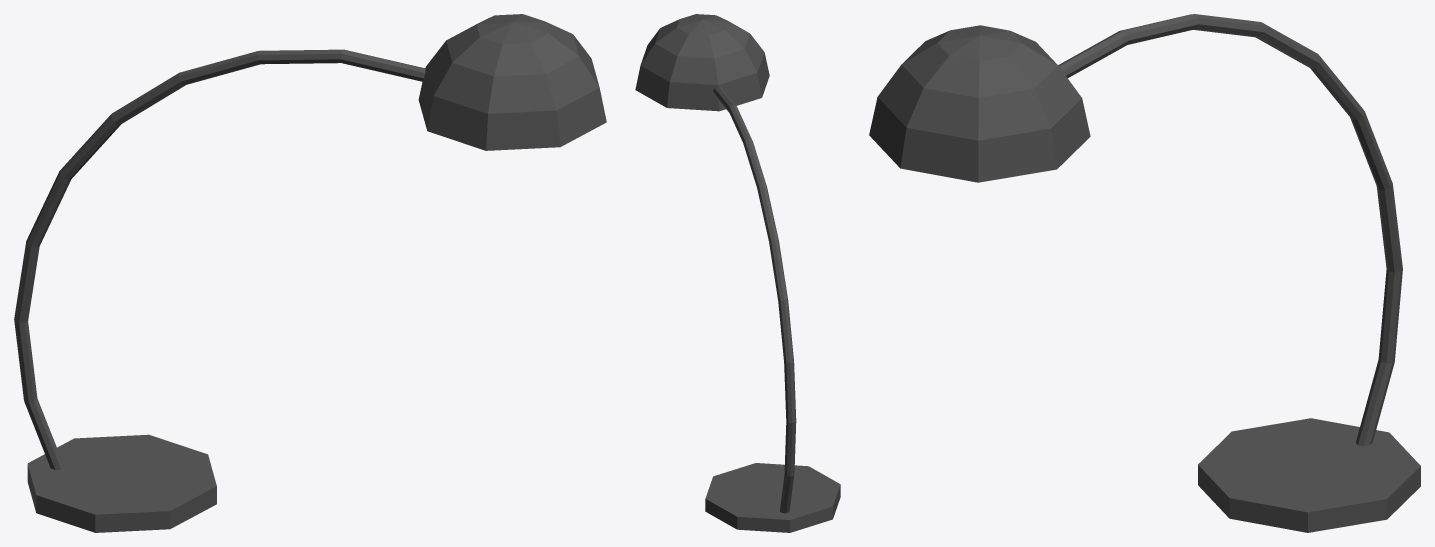
File: Lampe_Grå.fbx
3 renders of one model, left to right at view 1: azimuth 30°, elevation 25°; view 2: azimuth 150°, elevation 25°; view 3: azimuth 270°, elevation 25°, orthographic. The views are drawn at different scales.
Parts seen in each view (by area): view 1: Cylinder.008; view 2: Cylinder.008; view 3: Cylinder.008.
Part boxes in pixels (x1=…): Cylinder.008: x1=14, y1=14, x2=606, y2=532; Cylinder.008: x1=635, y1=14, x2=840, y2=532; Cylinder.008: x1=869, y1=14, x2=1420, y2=532.
Bounding box in the file's own units: 78.32 × 93.29 × 79.66.
